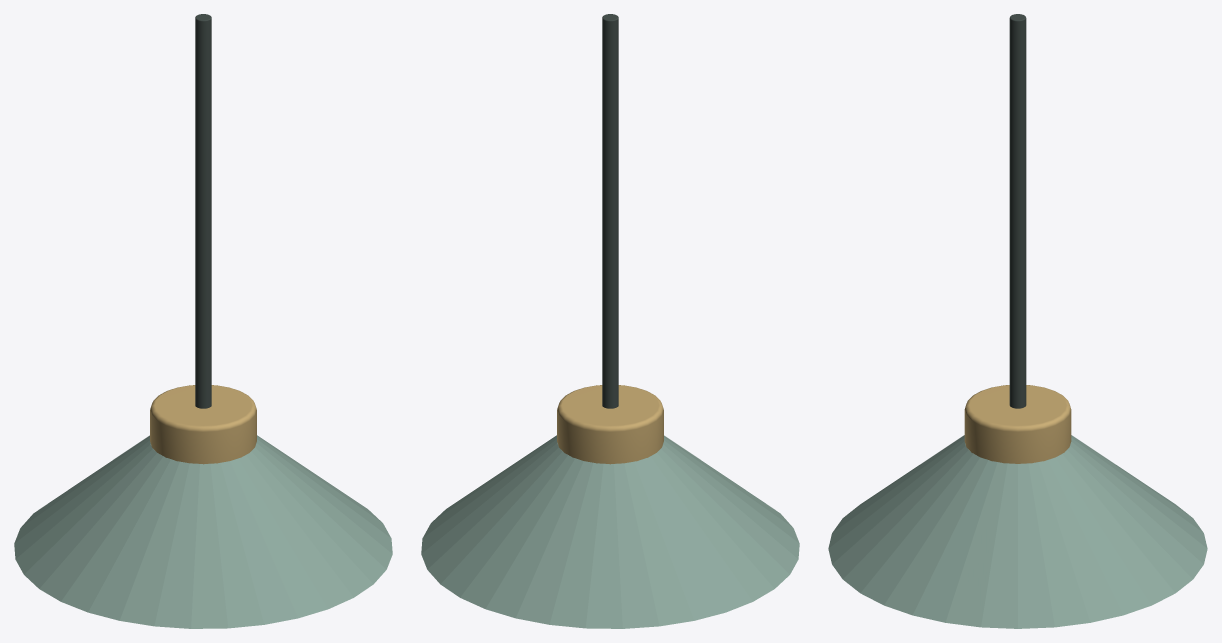
File: pendant.glb
3 renders of one model, left to right at view 1: azimuth 30°, elevation 25°; view 2: azimuth 150°, elevation 25°; view 3: azimuth 270°, elevation 25°, orthographic.
Parts seen in each view (by area): view 1: Spun enamel shade, Brass cap, Cable; view 2: Spun enamel shade, Brass cap, Cable; view 3: Spun enamel shade, Brass cap, Cable.
Boxes of the visible parts, x1,y1,x2,y2 form: Spun enamel shade: (14, 435, 392, 628); Brass cap: (150, 385, 256, 464); Cable: (195, 14, 211, 408); Spun enamel shade: (421, 435, 799, 628); Brass cap: (557, 385, 663, 464); Cable: (602, 14, 618, 408); Spun enamel shade: (828, 435, 1207, 628); Brass cap: (964, 385, 1071, 463); Cable: (1009, 14, 1026, 408).
Bounding box in the file's own units: 0.64 × 1 × 0.64.
